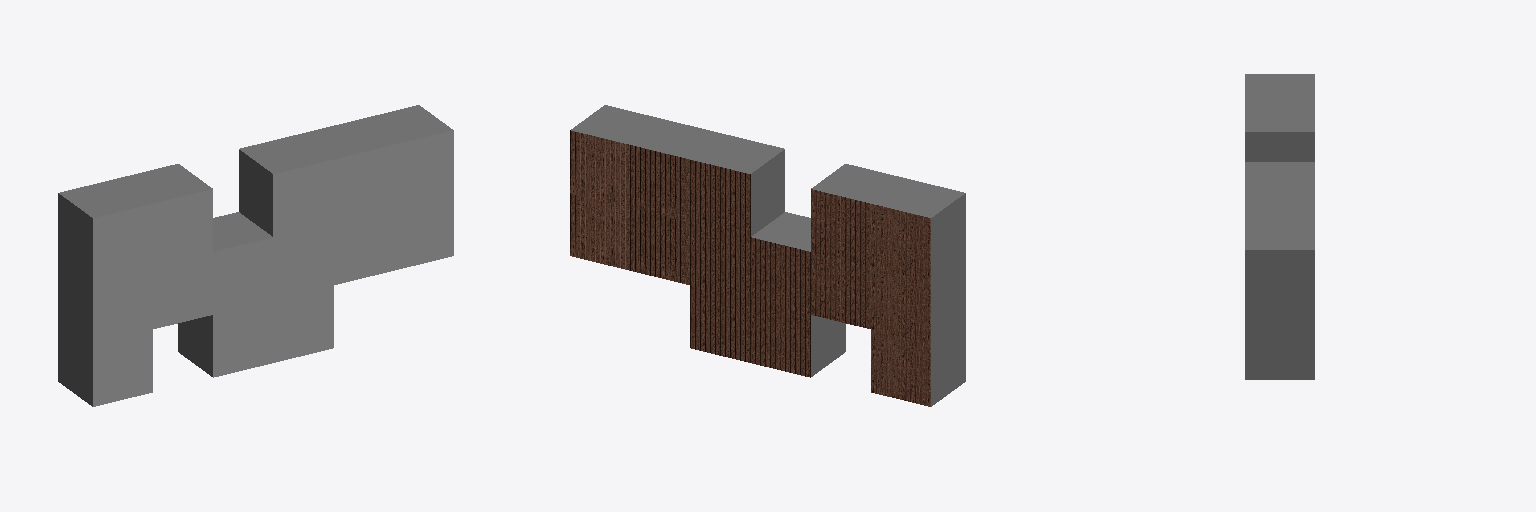
The picture shows the model from 3 angles: view 1: azimuth 30°, elevation 25°; view 2: azimuth 150°, elevation 25°; view 3: azimuth 270°, elevation 25°; orthographic projection.
Bounding box in the file's own units: 6 × 3 × 1.
3 materials, 1 textured.